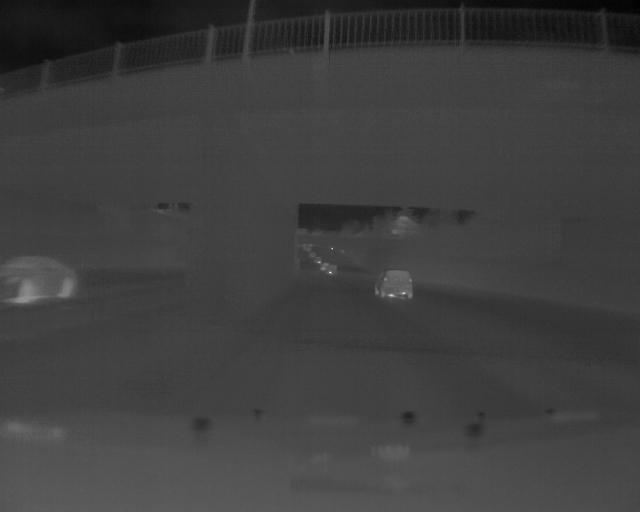car: (1, 254, 81, 304), (374, 269, 416, 303)
